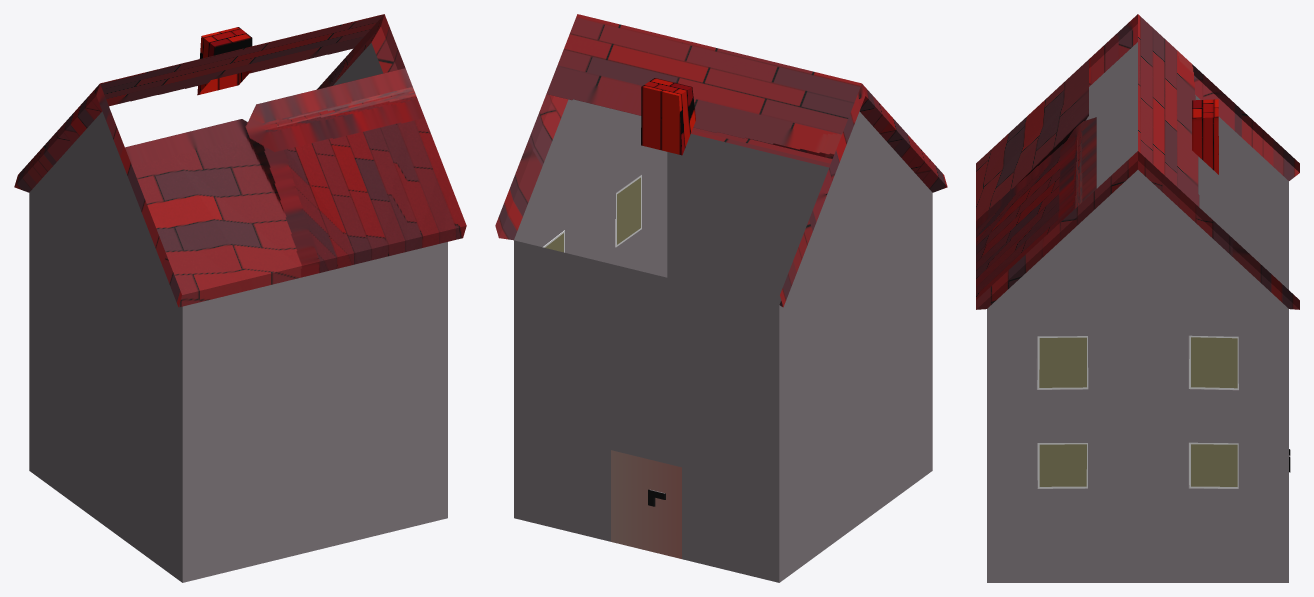
File: house1.fbx
3 renders of one model, left to right at view 1: azimuth 30°, elevation 25°; view 2: azimuth 150°, elevation 25°; view 3: azimuth 270°, elevation 25°, orthographic.
Parts seen in each view (by area): view 1: Cube; view 2: Cube; view 3: Cube.
Boxes of the visible parts, <box> form: Cube: <box>14,14,466,582</box>; Cube: <box>495,14,947,582</box>; Cube: <box>976,14,1299,582</box>.
Size of the model in its own units: 1009 by 1488 by 996.
